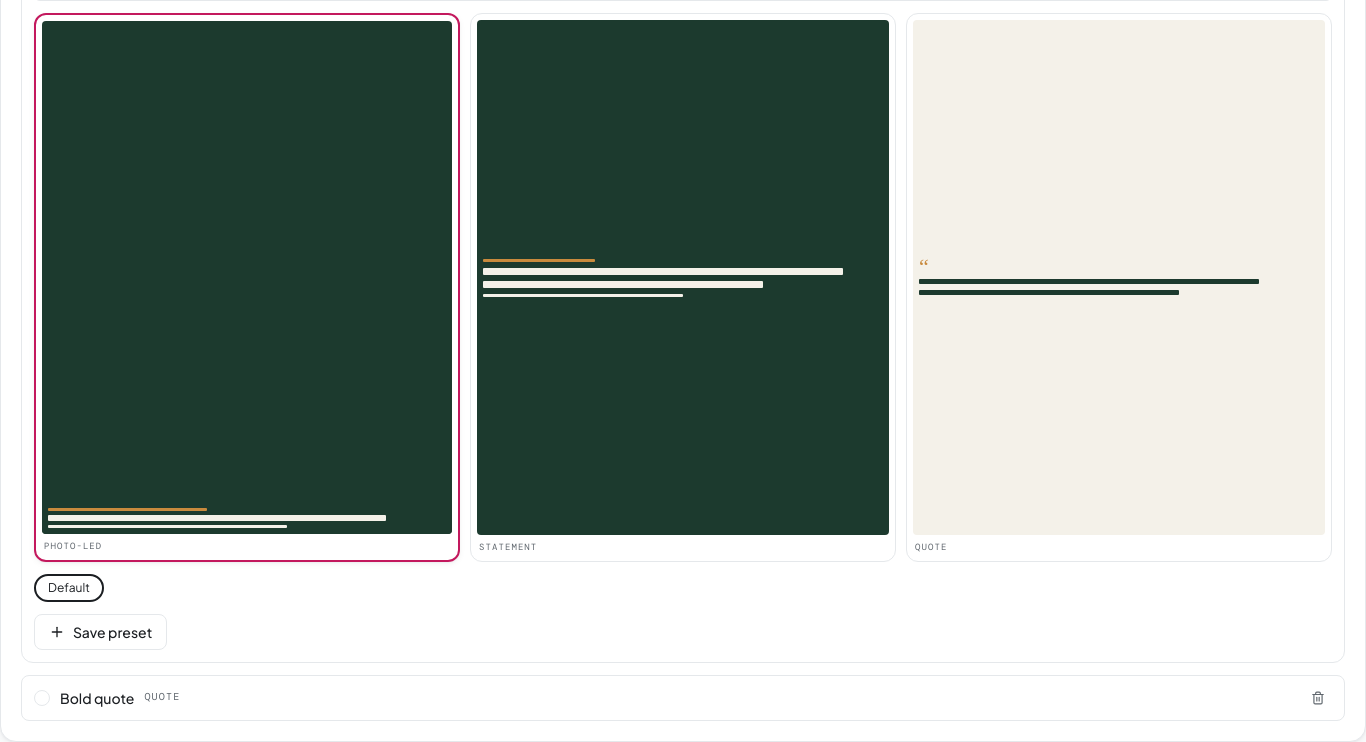
Test: removing a card preset › asks first, and Cancel removes nothing and returns focus
(page scrolled)
Click the button named "Remove Bold quote" at (1318, 698), box [1304,684,1332,712]
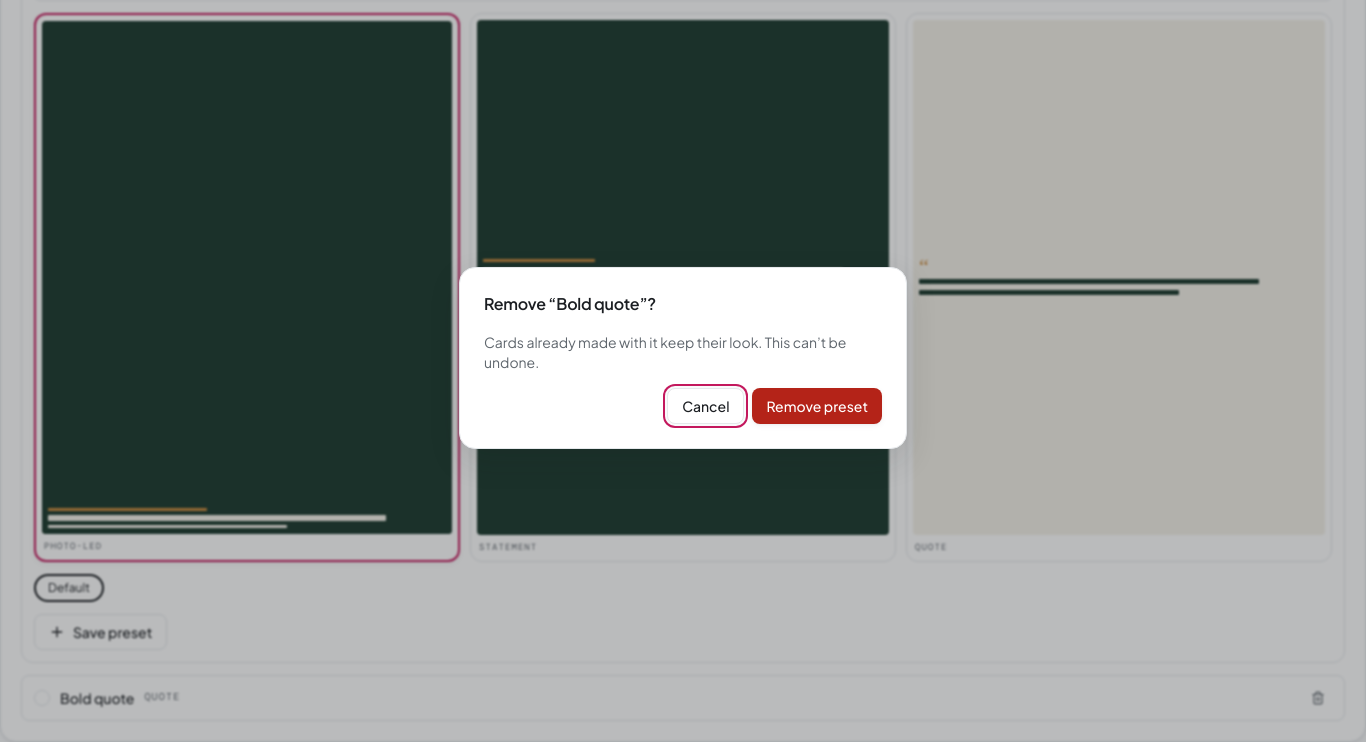
Check: the dialog "Remove “Bold quote”?" is shown, box [459,267,907,449]
Click the button "Cancel" at (706, 406), box [667,388,744,424]
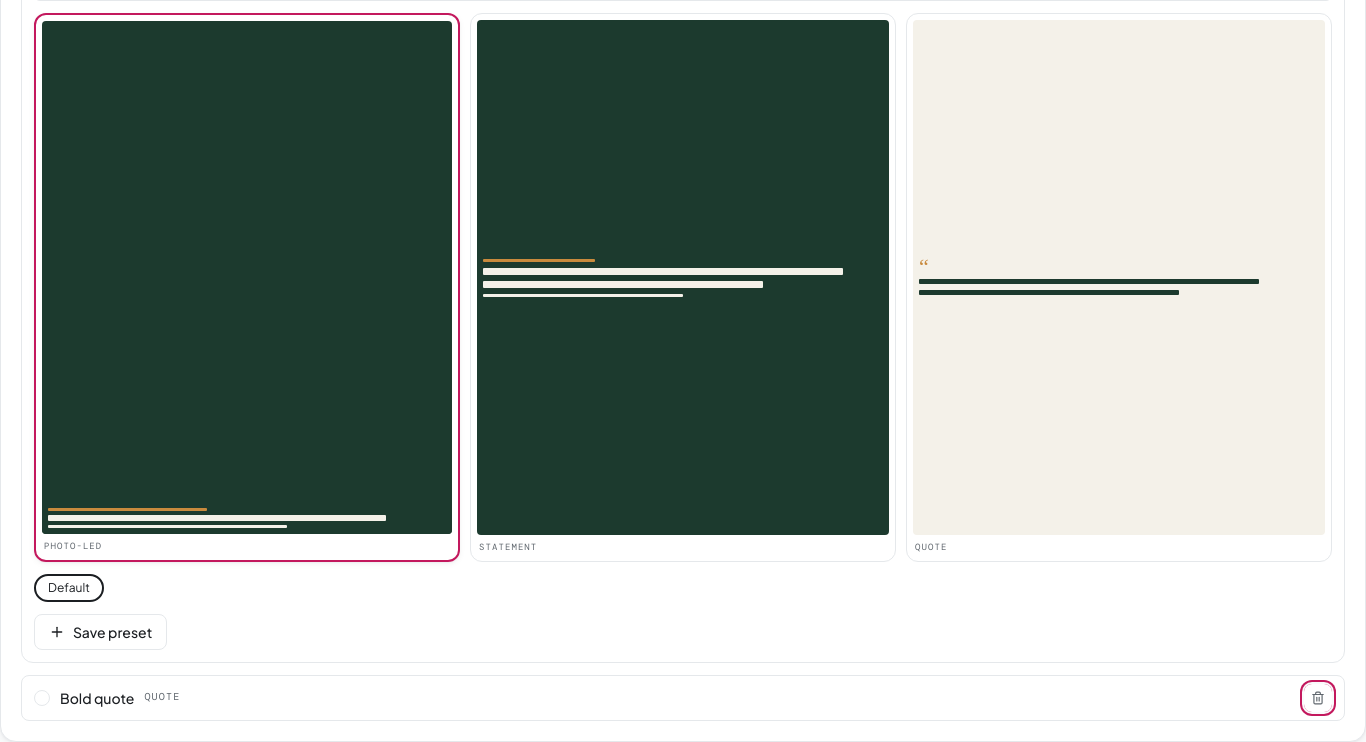
Check: the dialog is gone
